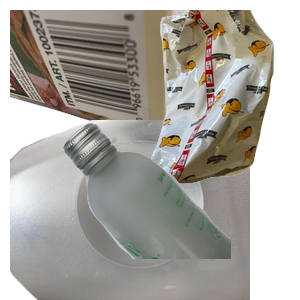cardboard: (10, 10, 213, 146)
glass: (60, 120, 300, 300)
plastic: (10, 120, 250, 300)
trash: (127, 10, 300, 190)
